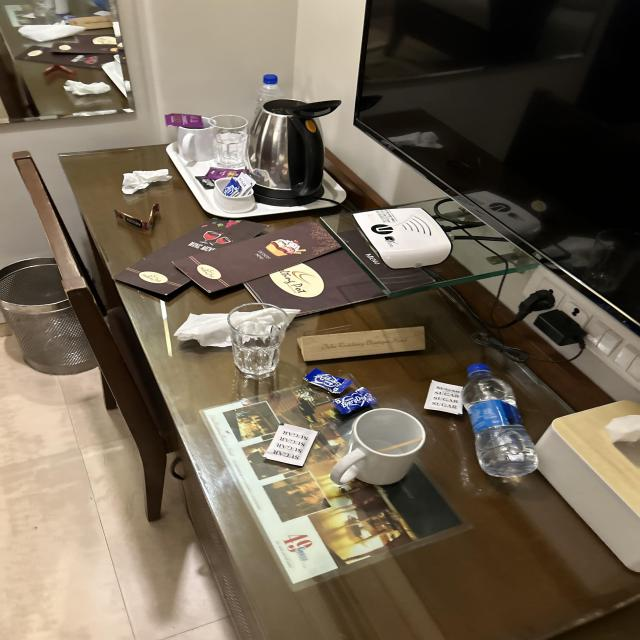mess: (0, 122, 640, 640)
